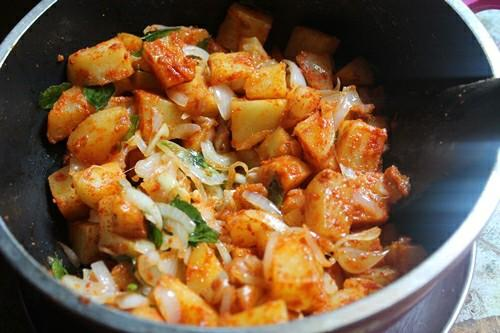AlooMasala: (49, 7, 410, 326)
